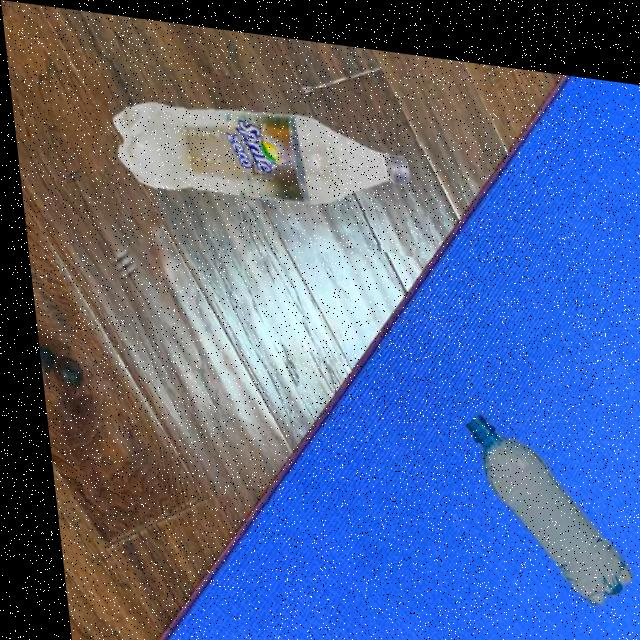plasticbottle: (89, 55, 428, 246)
